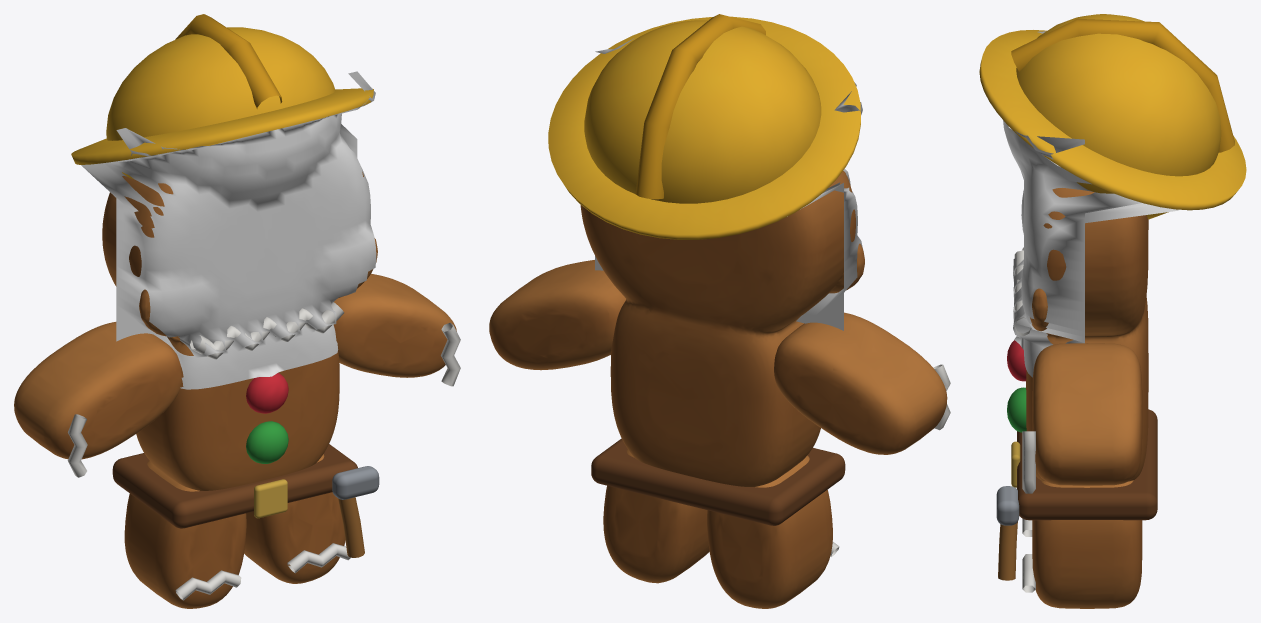
File: folk2_ginger.glb
3 views of the same model, side by side, from view 1: azimuth 30°, elevation 25°; view 2: azimuth 150°, elevation 25°; view 3: azimuth 270°, elevation 25° (orthographic). The views are drawn at different scales.
Visible parts, largest first — view 1: ginger_body, ginger_face, ginger_arm_l, ginger_arm_r, ginger_leg_l, ginger_leg_r; view 2: ginger_body, ginger_arm_l, ginger_arm_r, ginger_leg_l, ginger_leg_r, ginger_face; view 3: ginger_body, ginger_arm_r, ginger_face, ginger_leg_r.
Boxes of the visible parts, left/top/right/bottom form: ginger_body: left=71, top=14, right=379, bottom=557; ginger_face: left=81, top=71, right=376, bottom=389; ginger_arm_l: left=14, top=322, right=181, bottom=477; ginger_arm_r: left=333, top=273, right=460, bottom=386; ginger_leg_l: left=124, top=460, right=246, bottom=608; ginger_leg_r: left=244, top=454, right=350, bottom=583; ginger_body: left=548, top=14, right=864, bottom=525; ginger_arm_l: left=774, top=312, right=950, bottom=454; ginger_arm_r: left=489, top=260, right=625, bottom=370; ginger_leg_l: left=707, top=455, right=839, bottom=608; ginger_leg_r: left=603, top=449, right=709, bottom=583; ginger_face: left=595, top=38, right=862, bottom=330; ginger_body: left=979, top=14, right=1246, bottom=580; ginger_arm_r: left=1022, top=343, right=1142, bottom=493; ginger_face: left=1003, top=31, right=1178, bottom=377; ginger_leg_r: left=1022, top=480, right=1142, bottom=608.
Size of the model in its own units: 1.06 by 1.35 by 0.5848.
